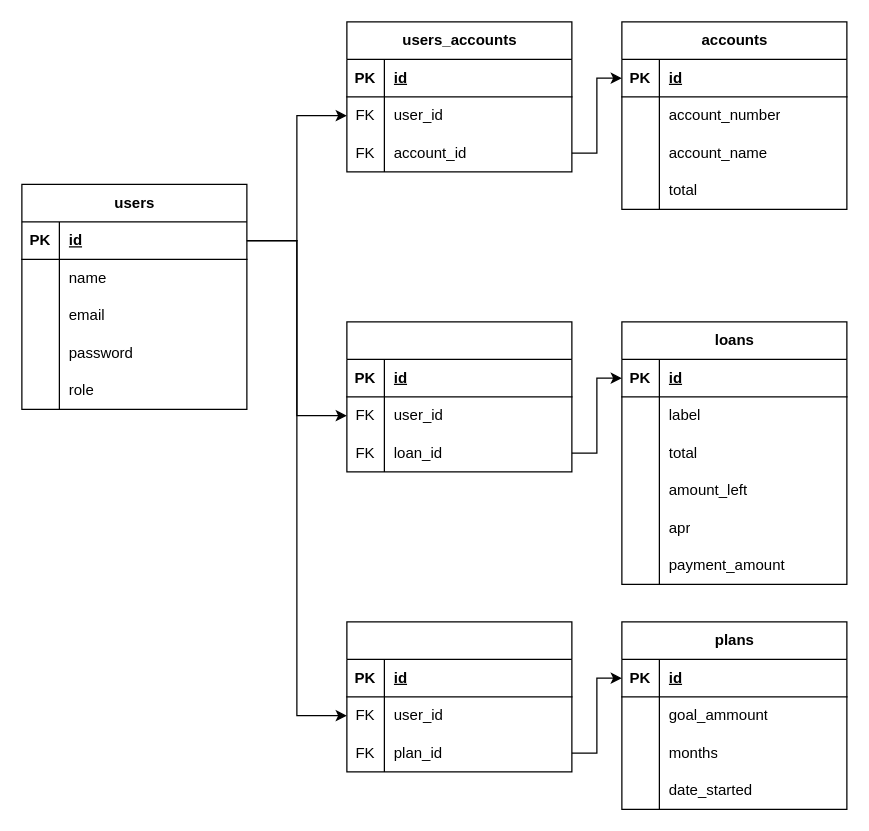
This 869x831 diagram has some shape labels left out. Here are the shapes that lost their labels. From the top down, the box of each, then its label:
(346, 321, 572, 472): users_loans
(346, 621, 572, 772): users_plans
